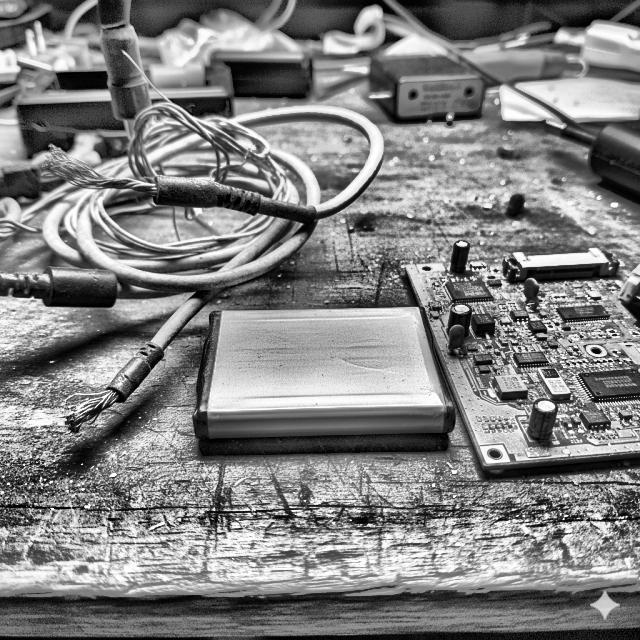Battery: (196, 305, 454, 452)
Cable: (0, 101, 376, 414)
PCB: (400, 241, 640, 478)
